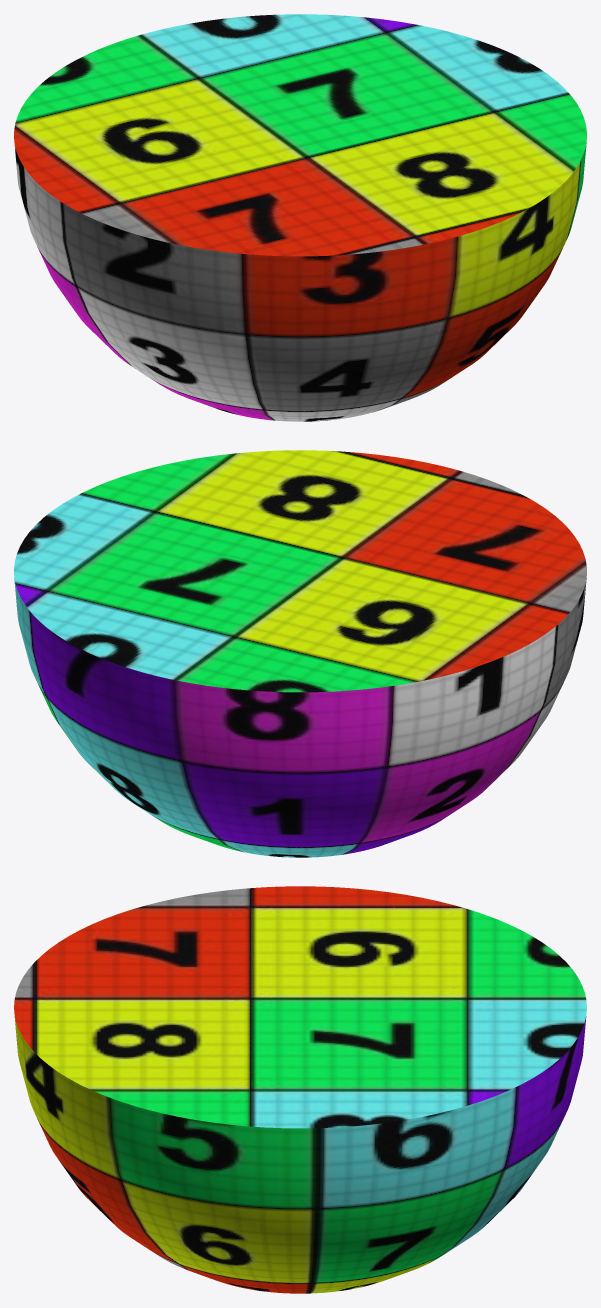
File: Stage.fbx
3 renders of one model, top to bottom at view 1: azimuth 30°, elevation 25°; view 2: azimuth 150°, elevation 25°; view 3: azimuth 270°, elevation 25°, orthographic.
Parts seen in each view (by area): view 1: pSphere1; view 2: pSphere1; view 3: pSphere1.
Part boxes in pixels (left/top/right/bottom): pSphere1: left=14, top=14, right=586, bottom=421; pSphere1: left=14, top=450, right=586, bottom=857; pSphere1: left=14, top=886, right=586, bottom=1293.
Bounding box in the file's own units: 44 × 21.73 × 44.
